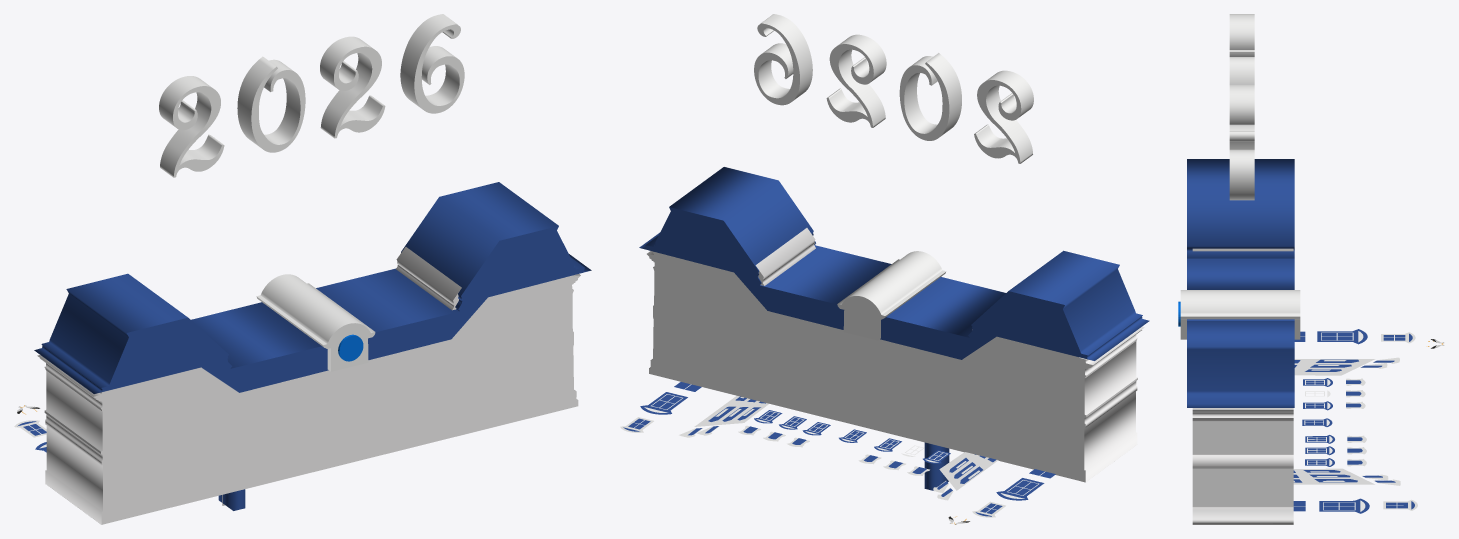
3 renders of one model, left to right at view 1: azimuth 30°, elevation 25°; view 2: azimuth 150°, elevation 25°; view 3: azimuth 270°, elevation 25°, orthographic. The views are drawn at different scales.
Parts seen in each view (by area): view 1: batiment blanc, Curve.520; view 2: batiment blanc, Curve.520, Curve.434, Curve.433, Curve.297; view 3: batiment blanc, Curve.520, Curve.434, Curve.433, Curve.361, Curve.370.
Part boxes in pixels (x1,y1,x2,y2): batiment blanc: [34, 182, 591, 524]; Curve.520: [159, 14, 464, 177]; batiment blanc: [639, 167, 1149, 482]; Curve.520: [754, 14, 1033, 163]; Curve.434: [939, 452, 998, 490]; Curve.433: [694, 396, 768, 426]; Curve.297: [924, 442, 949, 490]; batiment blanc: [1178, 159, 1300, 524]; Curve.520: [1229, 14, 1254, 200]; Curve.434: [1294, 359, 1375, 375]; Curve.433: [1293, 468, 1374, 484]; Curve.361: [1319, 498, 1369, 513]; Curve.370: [1317, 329, 1367, 344].
Size of what is drawn, in the model's own units: 2.11 by 1.79 by 1.07.
